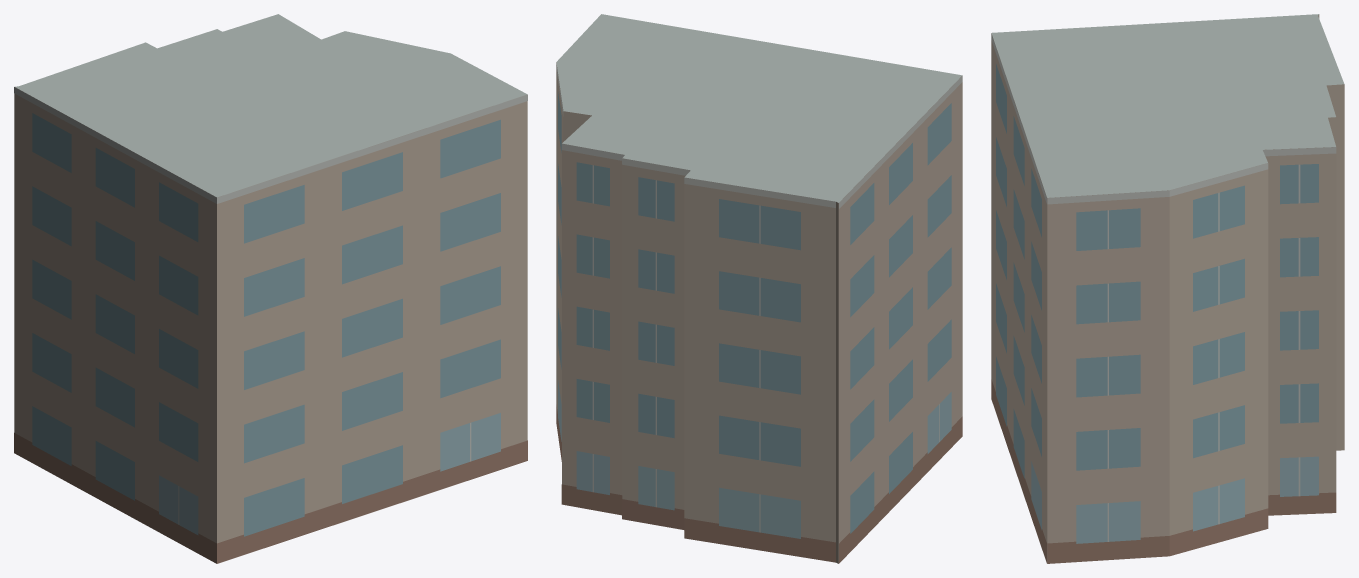
Rendered from survey-upis-32917162.glb.
The picture shows the model from 3 angles, left to right: view 1: azimuth 30°, elevation 25°; view 2: azimuth 150°, elevation 25°; view 3: azimuth 270°, elevation 25°; orthographic projection.
Visible parts, largest first — view 1: survey-upis-32917162.tmp; view 2: survey-upis-32917162.tmp; view 3: survey-upis-32917162.tmp.
Boxes of the visible parts, x1,y1,x2,y2 form: survey-upis-32917162.tmp: (14, 14, 527, 563); survey-upis-32917162.tmp: (556, 14, 962, 563); survey-upis-32917162.tmp: (991, 14, 1344, 563).
Bounding box in the file's own units: 14.67 × 13.6 × 11.91.
